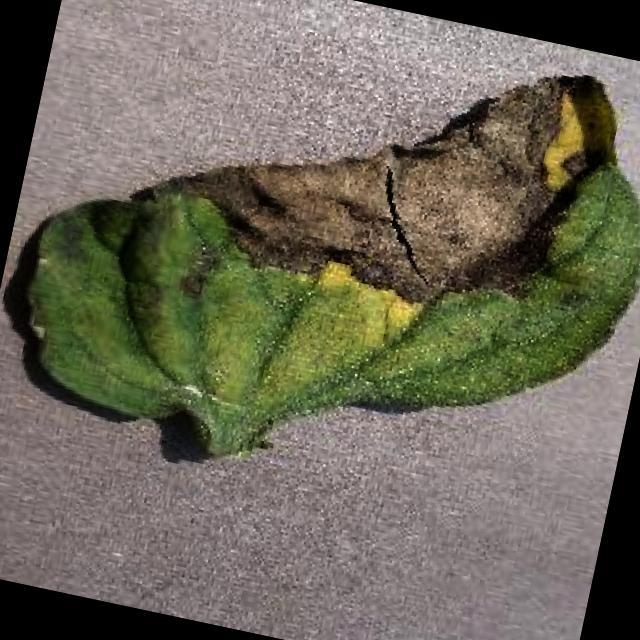Tomato late blight leaf: (5, 0, 640, 515)
